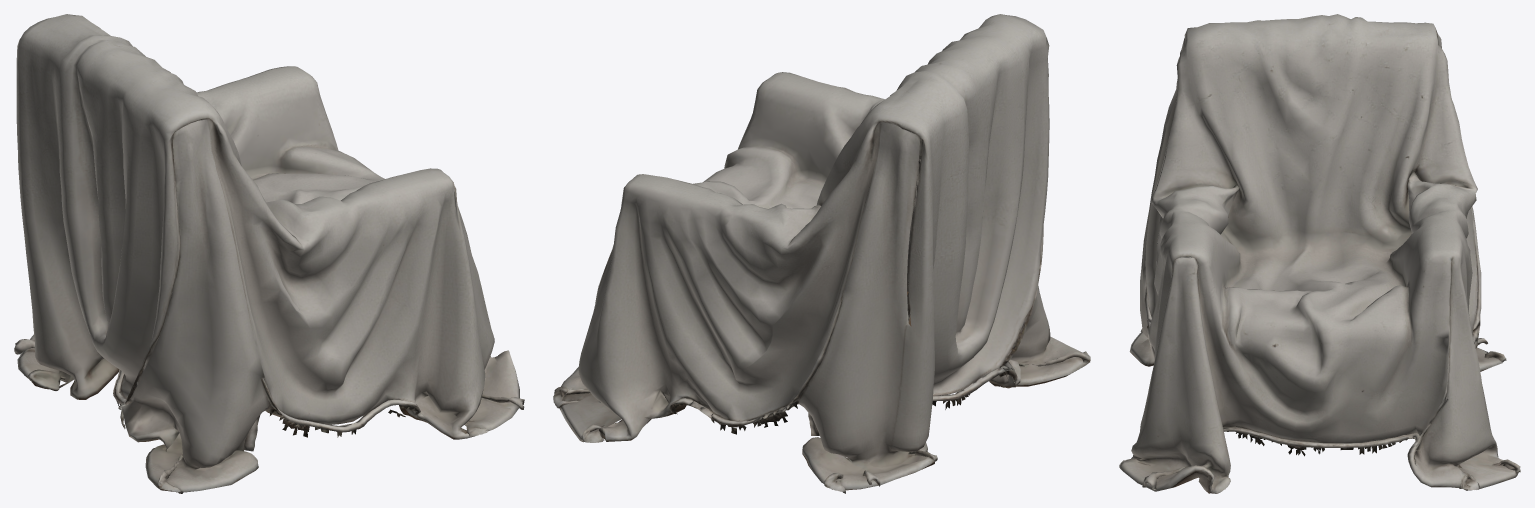
The picture shows the model from 3 angles, left to right: view 1: azimuth 30°, elevation 25°; view 2: azimuth 150°, elevation 25°; view 3: azimuth 270°, elevation 25°; orthographic projection. The views are drawn at different scales.
Parts seen in each view (by area): view 1: tripo_node_64086dd1-6d60-425f-a27b-7ba84321569f; view 2: tripo_node_64086dd1-6d60-425f-a27b-7ba84321569f; view 3: tripo_node_64086dd1-6d60-425f-a27b-7ba84321569f.
Boxes of the visible parts, left/top/right/bottom form: tripo_node_64086dd1-6d60-425f-a27b-7ba84321569f: left=14, top=14, right=524, bottom=493; tripo_node_64086dd1-6d60-425f-a27b-7ba84321569f: left=553, top=14, right=1090, bottom=493; tripo_node_64086dd1-6d60-425f-a27b-7ba84321569f: left=1119, top=14, right=1520, bottom=493.
Bounding box in the file's own units: 0.9941 × 0.9395 × 0.998.
1 material, 1 textured.
